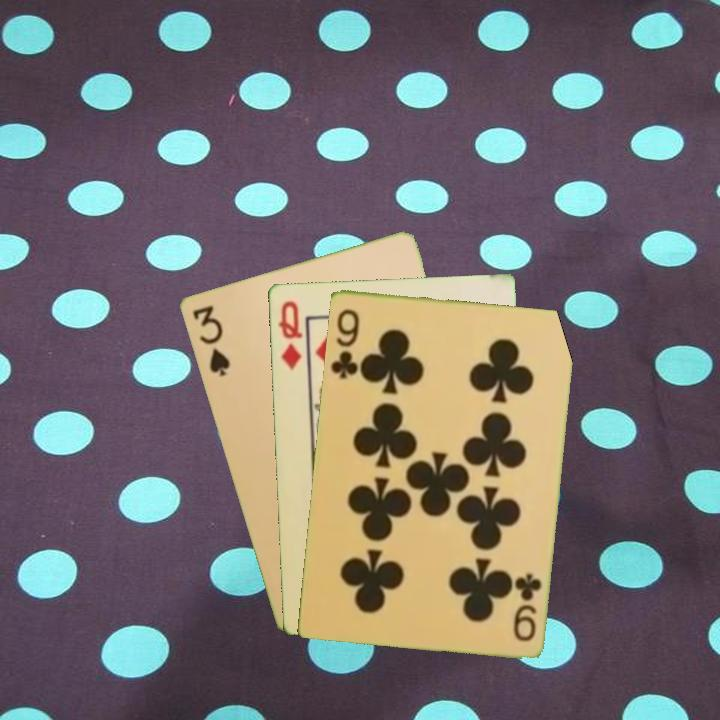3s: (188, 301, 233, 379)
9c: (327, 305, 362, 382), (509, 569, 544, 644)
Qd: (274, 297, 305, 373)
